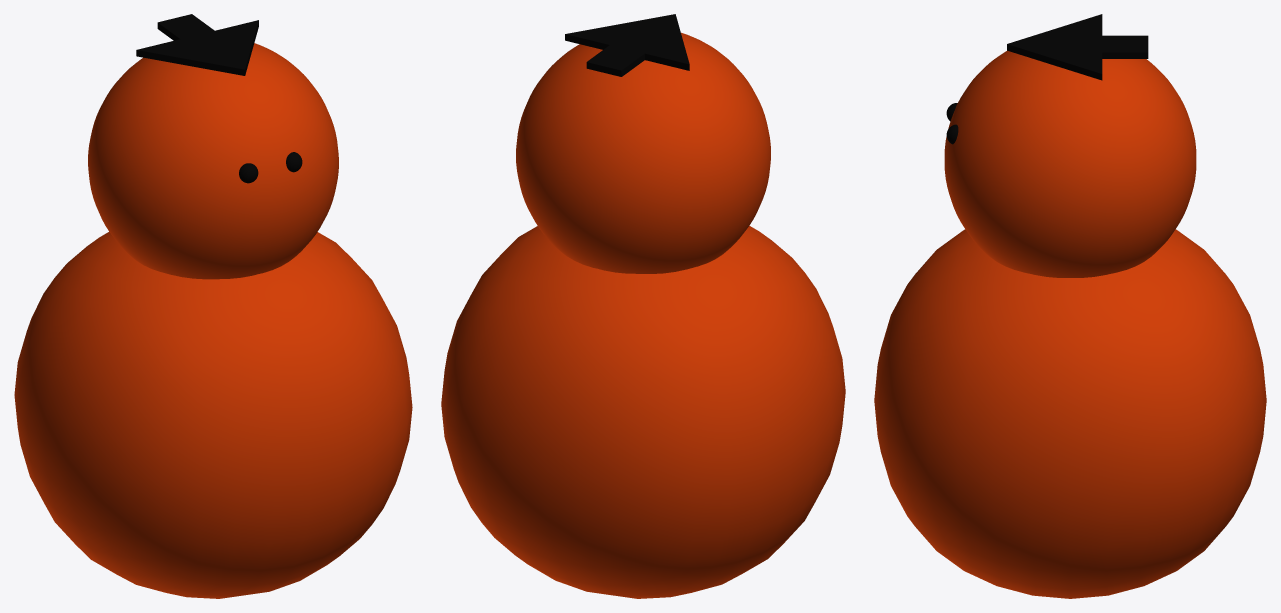
File: 1orange.obj
3 views of the same model, side by side, from view 1: azimuth 30°, elevation 25°; view 2: azimuth 150°, elevation 25°; view 3: azimuth 270°, elevation 25° (orthographic).
Parts seen in each view (by area): view 1: Cube.002_Cube.003_Material.005, Cube.002_Cube.003_SVGMat; view 2: Cube.002_Cube.003_Material.005, Cube.002_Cube.003_SVGMat; view 3: Cube.002_Cube.003_Material.005, Cube.002_Cube.003_SVGMat.
Boxes of the visible parts, box(x1,y1,x2,y2) form: Cube.002_Cube.003_Material.005: box(14, 43, 412, 598); Cube.002_Cube.003_SVGMat: box(136, 14, 302, 183); Cube.002_Cube.003_Material.005: box(441, 32, 845, 598); Cube.002_Cube.003_SVGMat: box(565, 14, 689, 76); Cube.002_Cube.003_Material.005: box(874, 50, 1266, 598); Cube.002_Cube.003_SVGMat: box(946, 14, 1148, 144).
Bounding box in the file's own units: 0.3205 × 0.4814 × 0.3205.
